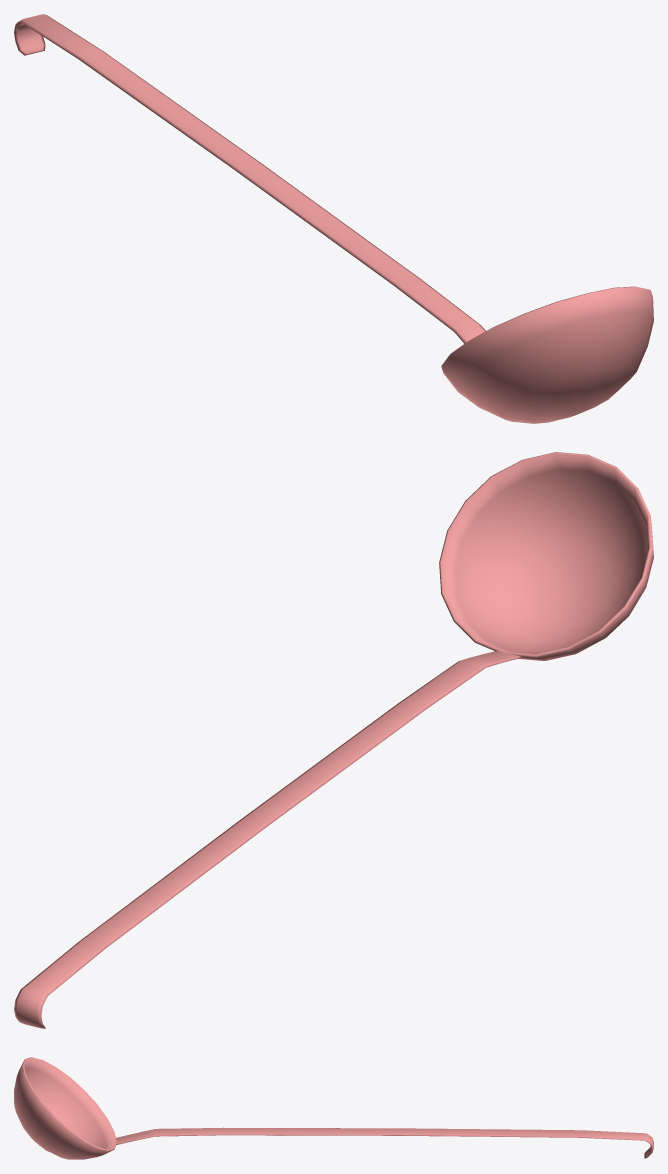
Rendered from TFYK_ladle_high_poly.FBX.
3 views of the same model, one above another, from view 1: azimuth 30°, elevation 25°; view 2: azimuth 150°, elevation 25°; view 3: azimuth 270°, elevation 25° (orthographic). The views are drawn at different scales.
Visible parts, largest first — view 1: TFYK_ladle_high_poly; view 2: TFYK_ladle_high_poly; view 3: TFYK_ladle_high_poly.
Part boxes in pixels (box(x1,y1,x2,y2)): TFYK_ladle_high_poly: box(14, 14, 653, 423); TFYK_ladle_high_poly: box(14, 452, 653, 1028); TFYK_ladle_high_poly: box(14, 1057, 653, 1159).
Size of the model in its own units: 0.0678 by 0.0536 by 0.34.
